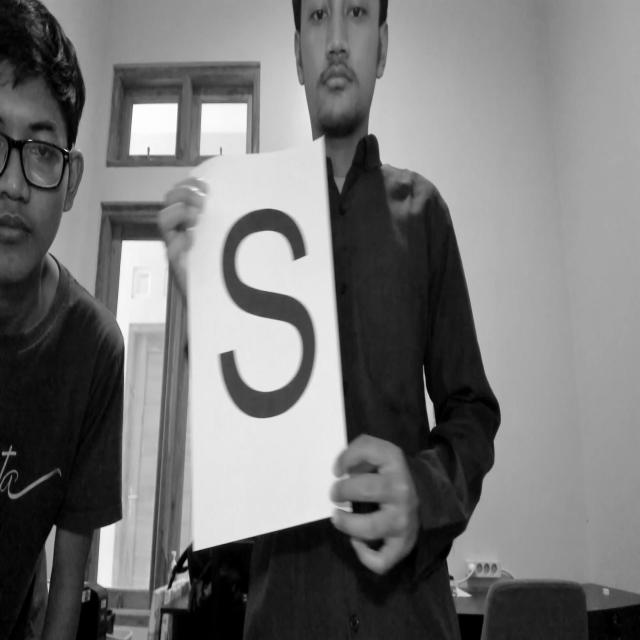s: (214, 200, 321, 427)
